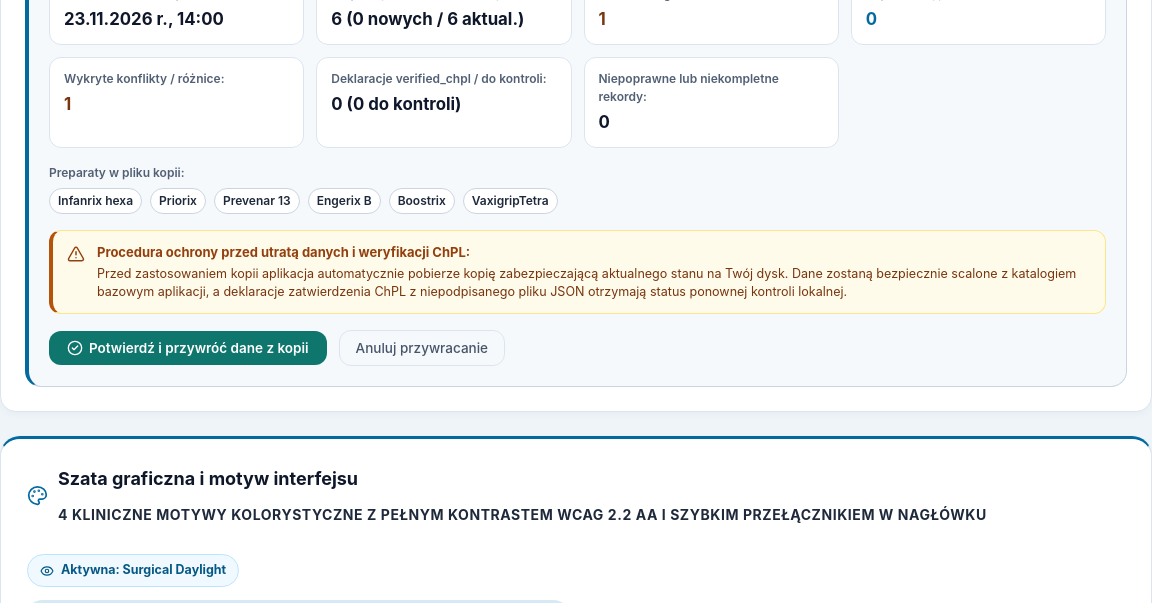
SettingsView — pełny UI przepływ importu i eksportu kopii JSON › pozwala anulować przed zatwierdzeniem oraz po odrzuceniu window.confirm bez nadpisania localStorage
This screenshot has width=1152, height=603.
Earlier steps of the test are not shown.
Later steps or results of the test are not shown.
(page scrolled)
Click the button "Anuluj przywracanie". click: [422, 348]
box: x1=339 y1=330 x2=505 y2=366
(page scrolled)
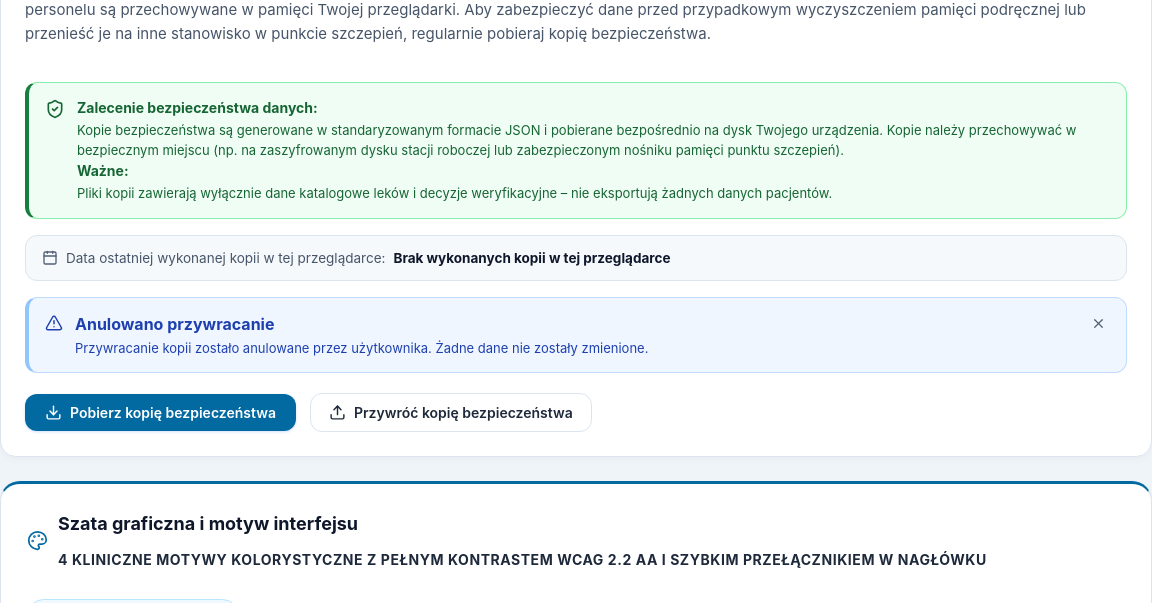
Now the text "Przywracanie kopii zostało anulowane przez użytkownika" is shown, box x1=75 y1=340 x2=648 y2=356
